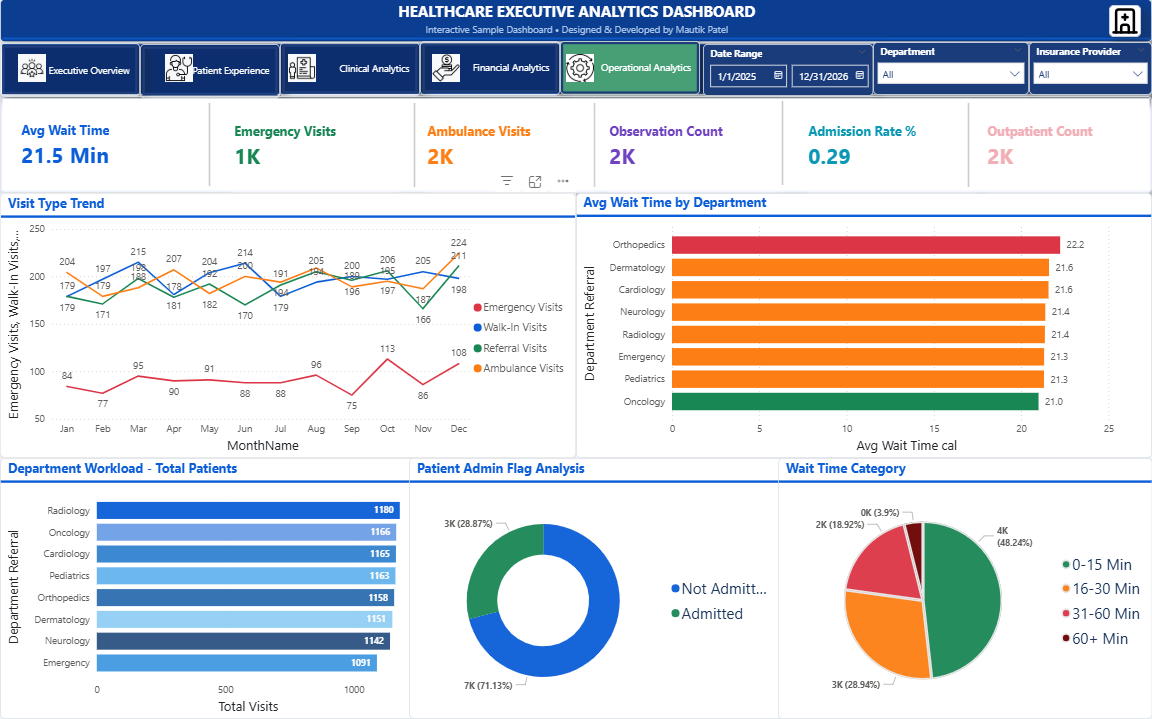

This screenshot's page, from the dashboard's own definition file:
{"tool":"powerbi","page":{"name":"Operational Analytics","canvas":[1440,900],"ordinal":4},"visuals":[{"type":"shape","title":"HEALTHCARE EXECUTIVE ANALYTICS DASHBOARD","box":[0,0,1440,54.3],"z":0},{"type":"image","box":[1385.7,7.1,40,40],"z":1000},{"type":"shape","box":[0,53.8,1440,67.5],"z":2000},{"type":"actionButton","box":[0,55,175,67],"z":3000},{"type":"actionButton","box":[175,56.2,175,67.5],"z":4000},{"type":"actionButton","box":[350,53.8,175,67.5],"z":5000},{"type":"actionButton","box":[525,52.5,175,67.5],"z":6000},{"type":"actionButton","box":[700,52.5,175,67],"z":7000},{"type":"slicer","fields":{"Values":["DateTable.Date"]},"box":[878.8,56.2,212.5,65],"z":8000},{"type":"slicer","fields":{"Values":["HealthcareData.Department Referral"]},"box":[1091.2,53.8,195,66.2],"z":9000},{"type":"slicer","fields":{"Values":["HealthcareData.Insurance Provider"]},"box":[1286.2,53.8,153.8,66.2],"z":10000},{"type":"shape","box":[0,121.2,1440,121.2],"z":11000},{"type":"shape","box":[246.2,130,31.2,103.8],"z":12000},{"type":"shape","box":[511.2,130,13.8,105],"z":13000},{"type":"shape","box":[740,130,6.2,105],"z":14000},{"type":"cardVisual","fields":{"Data":["Measures (3).Avg Wait Time"]},"box":[22.5,142.5,213.8,78.8],"z":15000},{"type":"cardVisual","fields":{"Data":["Measures (3).Emergency Visits"]},"box":[288.8,130,197.5,105],"z":16000},{"type":"cardVisual","fields":{"Data":["Measures (3).Ambulance Visits"]},"box":[530,130,200,105],"z":17000},{"type":"cardVisual","fields":{"Data":["Measures (3).Observation Count"]},"box":[757.5,130,202.5,105],"z":18000},{"type":"image","box":[707.5,68.8,35,35],"z":19000},{"type":"image","box":[22.5,68.8,35,35],"z":20000},{"type":"image","box":[206.2,68.8,35,35],"z":21000},{"type":"image","box":[360,68.8,35,35],"z":22000},{"type":"image","box":[540,68.8,35,35],"z":23000},{"type":"lineChart","title":"Visit Type Trend","fields":{"Category":["DateTable.MonthName"],"Y":["Measures (3).Emergency Visits","Measures (3).Walk-In Visits","Measures (3).Referral Visits","Measures (3).Ambulance Visits"]},"box":[0,242.5,720,331.2],"z":24000},{"type":"clusteredBarChart","title":"Avg Wait Time by Department","fields":{"Category":["HealthcareData.Department Referral"],"Y":["Measures (3).Avg Wait Time cal"]},"box":[720,242.5,720,331.2],"z":25000},{"type":"barChart","title":"Department Workload - Total Patients","fields":{"Category":["HealthcareData.Department Referral"],"Y":["Measures (3).Total Visits"]},"box":[0,573.8,518.8,326.2],"z":26000},{"type":"cardVisual","fields":{"Data":["Measures (3).Admission Rate %"]},"box":[1006.2,130,205,105],"z":27000},{"type":"cardVisual","fields":{"Data":["Measures (3).Outpatient Count"]},"box":[1230,130,196.2,105],"z":28000},{"type":"shape","box":[971.2,127.5,13.8,105],"z":29000},{"type":"shape","box":[1203.8,130,13.8,105],"z":30000},{"type":"donutChart","title":"Patient Admin Flag Analysis","fields":{"Y":["Measures (3).Total Visits"],"Category":["HealthcareData.Admission Label"]},"box":[511.2,573.8,467.5,326.2],"z":31000},{"type":"pieChart","title":"Wait Time Category","fields":{"Y":["Measures (3).Total Visits"],"Category":["HealthcareData.Wait Category"]},"box":[972.5,573.8,467.5,326.2],"z":32000}]}

Visuals, with their boxes in screenshot pixels (x1, y1, x2, y2), scaled from the page's 1440x900 canvas onto the 1152x719 screenshot:
"HEALTHCARE EXECUTIVE ANALYTICS DASHBOARD" shape: (x1=0, y1=0, x2=1151, y2=43)
image: (x1=1109, y1=6, x2=1141, y2=38)
shape: (x1=0, y1=43, x2=1151, y2=97)
actionButton: (x1=0, y1=44, x2=140, y2=97)
actionButton: (x1=140, y1=45, x2=280, y2=99)
actionButton: (x1=280, y1=43, x2=420, y2=97)
actionButton: (x1=420, y1=42, x2=560, y2=96)
actionButton: (x1=560, y1=42, x2=700, y2=95)
slicer - DateTable.Date: (x1=703, y1=45, x2=873, y2=97)
slicer - HealthcareData.Department Referral: (x1=873, y1=43, x2=1029, y2=96)
slicer - HealthcareData.Insurance Provider: (x1=1029, y1=43, x2=1151, y2=96)
shape: (x1=0, y1=97, x2=1151, y2=194)
shape: (x1=197, y1=104, x2=222, y2=187)
shape: (x1=409, y1=104, x2=420, y2=188)
shape: (x1=592, y1=104, x2=597, y2=188)
cardVisual - Measures (3).Avg Wait Time: (x1=18, y1=114, x2=189, y2=177)
cardVisual - Measures (3).Emergency Visits: (x1=231, y1=104, x2=389, y2=188)
cardVisual - Measures (3).Ambulance Visits: (x1=424, y1=104, x2=584, y2=188)
cardVisual - Measures (3).Observation Count: (x1=606, y1=104, x2=768, y2=188)
image: (x1=566, y1=55, x2=594, y2=83)
image: (x1=18, y1=55, x2=46, y2=83)
image: (x1=165, y1=55, x2=193, y2=83)
image: (x1=288, y1=55, x2=316, y2=83)
image: (x1=432, y1=55, x2=460, y2=83)
"Visit Type Trend" lineChart: (x1=0, y1=194, x2=576, y2=458)
"Avg Wait Time by Department" clusteredBarChart: (x1=576, y1=194, x2=1151, y2=458)
"Department Workload - Total Patients" barChart: (x1=0, y1=458, x2=415, y2=718)
cardVisual - Measures (3).Admission Rate %: (x1=805, y1=104, x2=969, y2=188)
cardVisual - Measures (3).Outpatient Count: (x1=984, y1=104, x2=1141, y2=188)
shape: (x1=777, y1=102, x2=788, y2=186)
shape: (x1=963, y1=104, x2=974, y2=188)
"Patient Admin Flag Analysis" donutChart: (x1=409, y1=458, x2=783, y2=718)
"Wait Time Category" pieChart: (x1=778, y1=458, x2=1151, y2=718)
